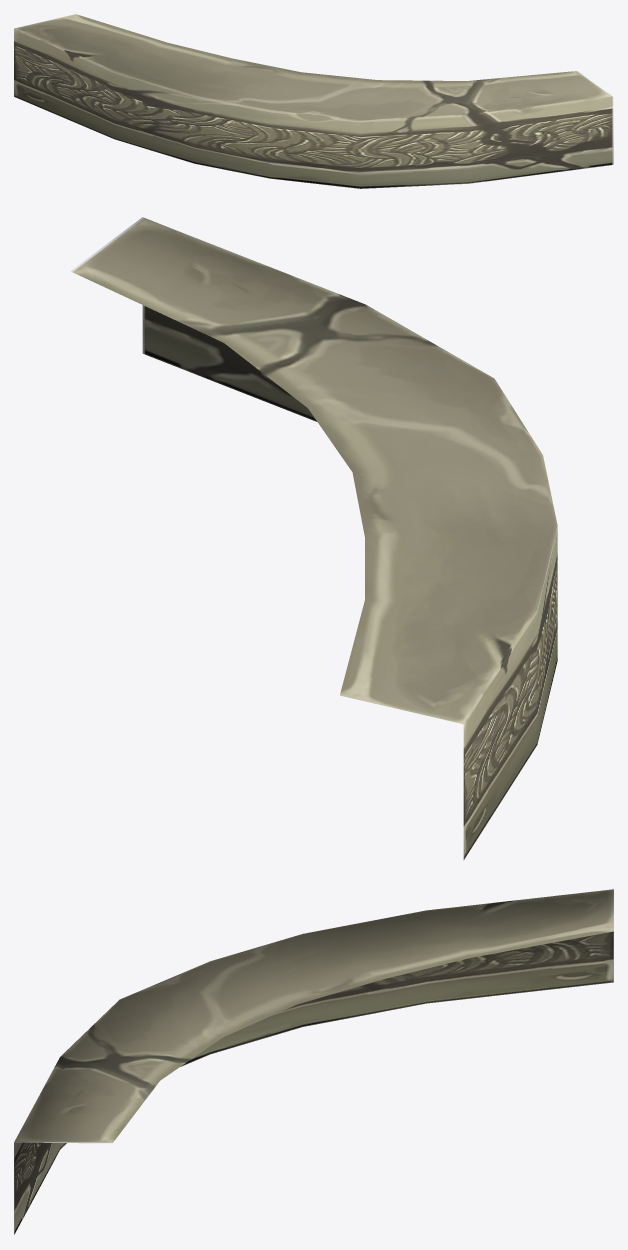
The model's file is wall_convex2_base.fbx.
3 views of the same model, one above another, from view 1: azimuth 30°, elevation 25°; view 2: azimuth 150°, elevation 25°; view 3: azimuth 270°, elevation 25° (orthographic). The views are drawn at different scales.
Visible parts, largest first — view 1: concave1_v_base; view 2: concave1_v_base; view 3: concave1_v_base.
Boxes of the visible parts, x1=… form: concave1_v_base: x1=14, y1=14, x2=613, y2=188; concave1_v_base: x1=70, y1=217, x2=557, y2=859; concave1_v_base: x1=14, y1=889, x2=613, y2=1234.
Bounding box in the file's own units: 2.39 × 0.4098 × 2.39.
